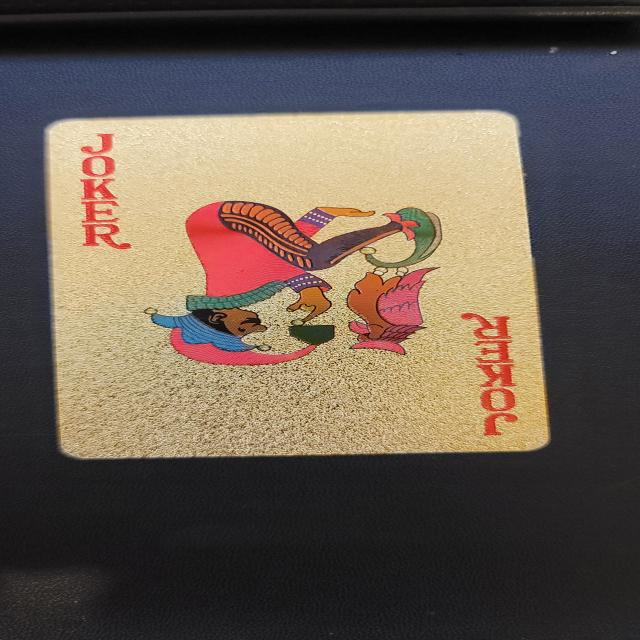Joker: (45, 109, 553, 459)
